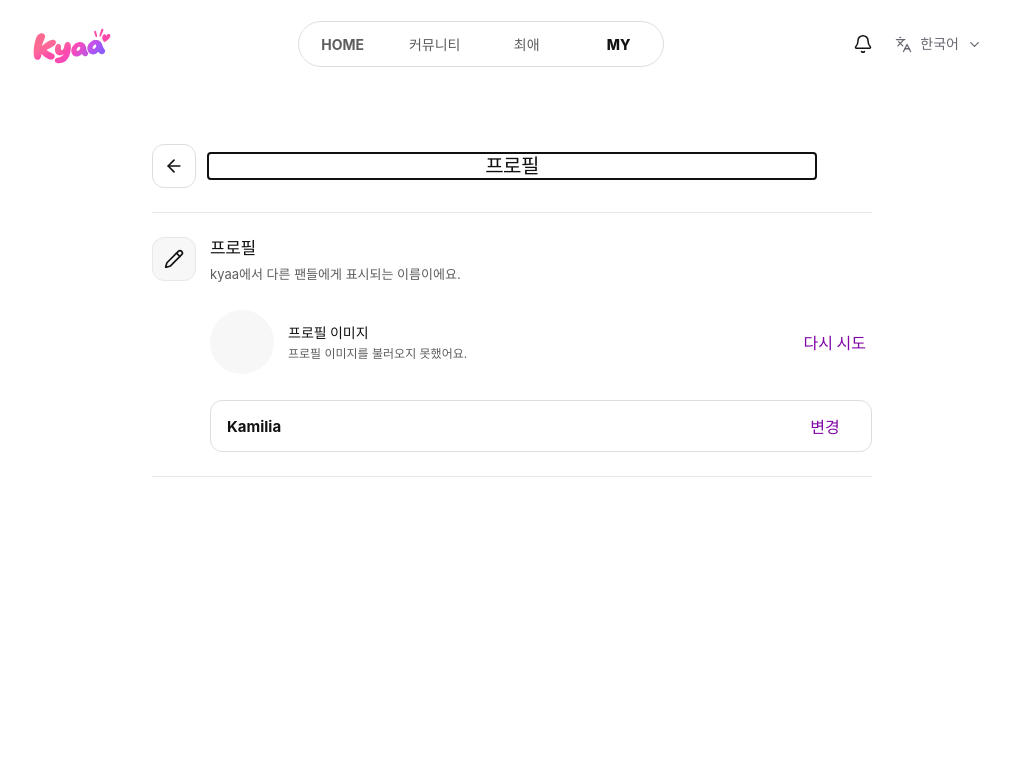
it: FAN-020 settings › identifies an expired nickname save session without marking the field invalid
Expected: the text "Kamilia" is shown, [227,417,281,436]
Click the button "변경" at (825, 426), box [795,404,855,448]
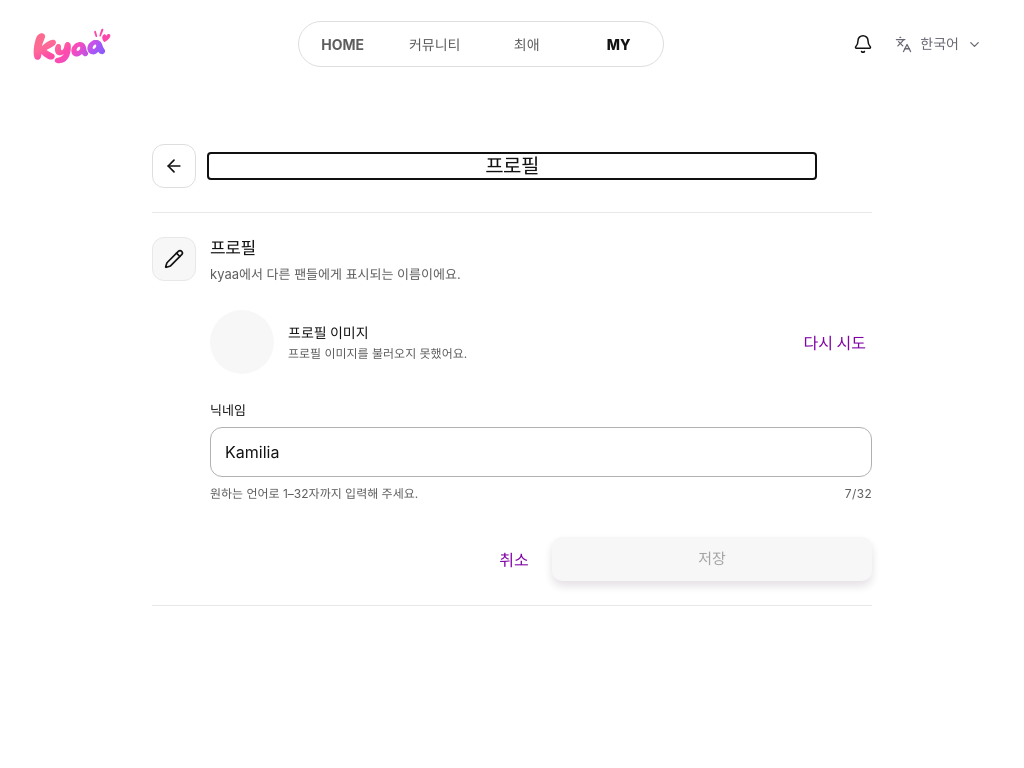
Replace the text in the field labelled "닉네임" with "Melody" at (541, 452), box [210,427,872,477]
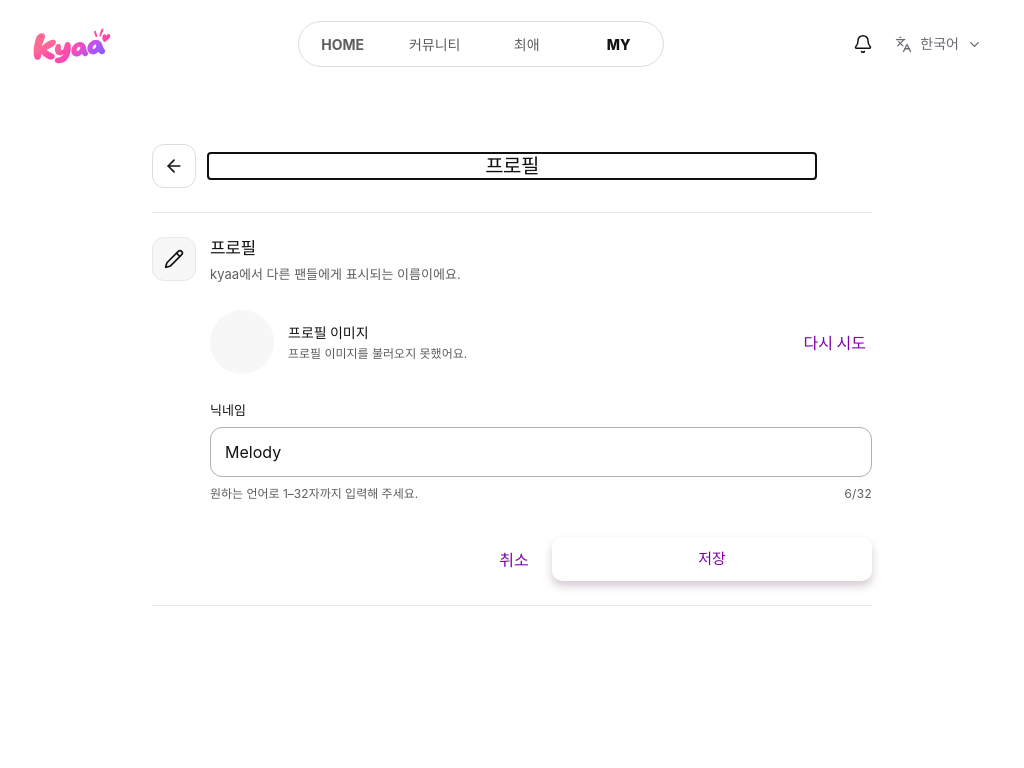
Click the button "저장" at (712, 559), box [552,537,872,581]
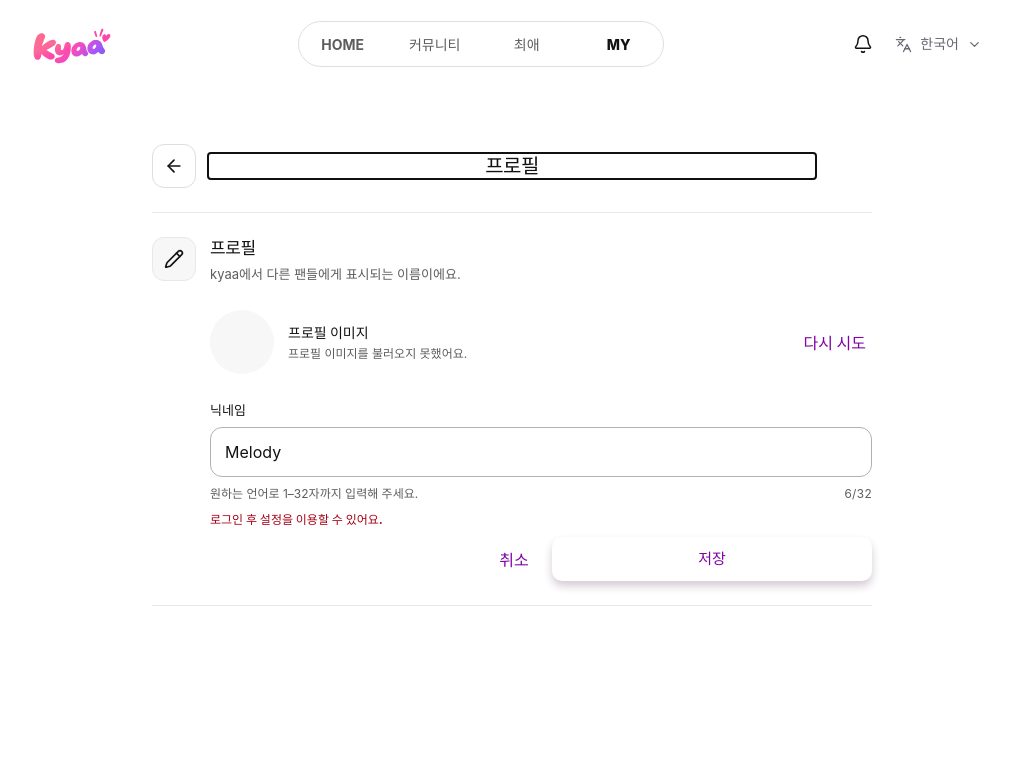
Expected: the message reads "로그인 후 설정을 이용할 수 있어요.", [210,512,383,527]
